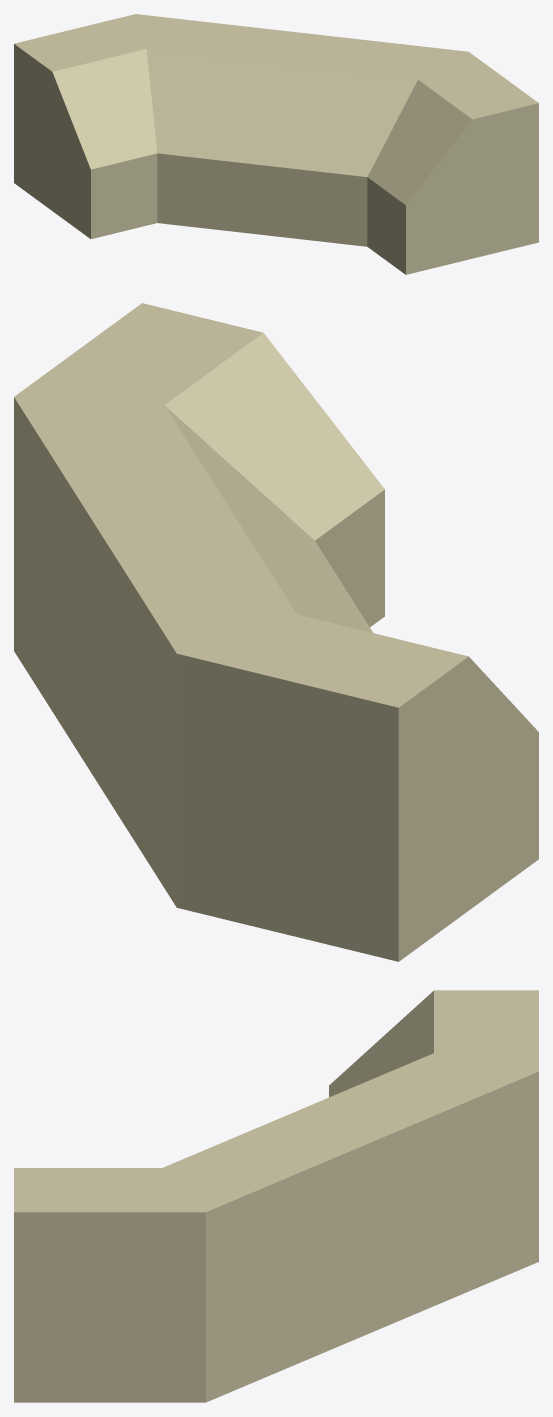
File: Shape_Trim_90_In.FBX
3 renders of one model, top to bottom at view 1: azimuth 30°, elevation 25°; view 2: azimuth 150°, elevation 25°; view 3: azimuth 270°, elevation 25°, orthographic. The views are drawn at different scales.
Parts seen in each view (by area): view 1: Shape_Trim_90_In; view 2: Shape_Trim_90_In; view 3: Shape_Trim_90_In.
Boxes of the visible parts, box(x1,y1,x2,y2) form: Shape_Trim_90_In: box(14, 14, 538, 274); Shape_Trim_90_In: box(14, 303, 538, 961); Shape_Trim_90_In: box(14, 990, 538, 1402).
Bounding box in the file's own units: 50 × 50 × 20.
